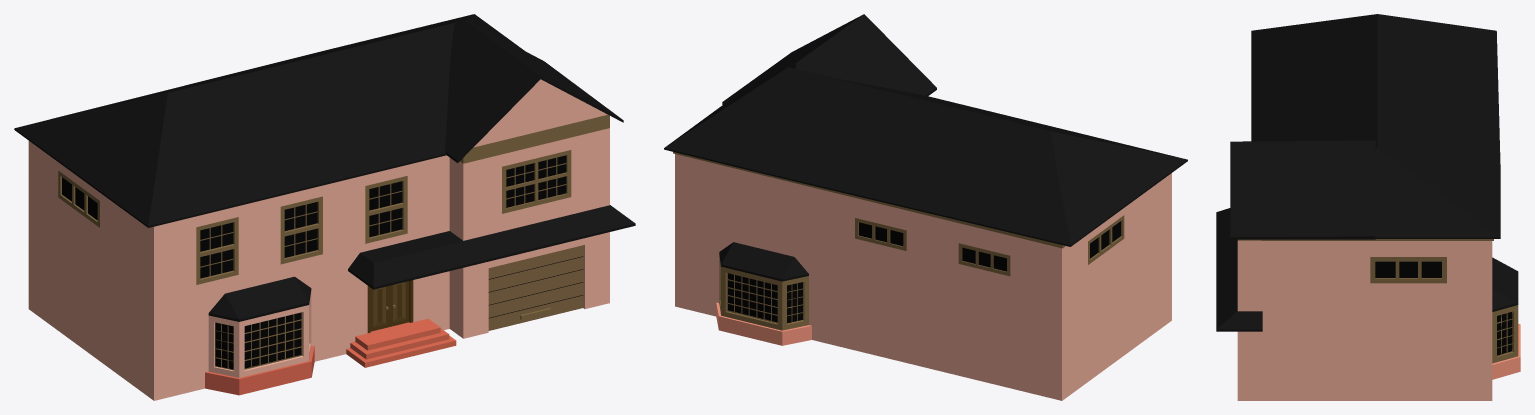
File: House-18.fbx
3 views of the same model, side by side, from view 1: azimuth 30°, elevation 25°; view 2: azimuth 150°, elevation 25°; view 3: azimuth 270°, elevation 25° (orthographic). The views are drawn at different scales.
Visible parts, largest first — view 1: Cube; view 2: Cube; view 3: Cube.
Part boxes in pixels (x1,y1,x2,y2): Cube: (14,14,635,400); Cube: (664,14,1187,400); Cube: (1216,14,1520,400).
Size of what is drawn, in the model's own units: 19 by 9.63 by 11.68.
